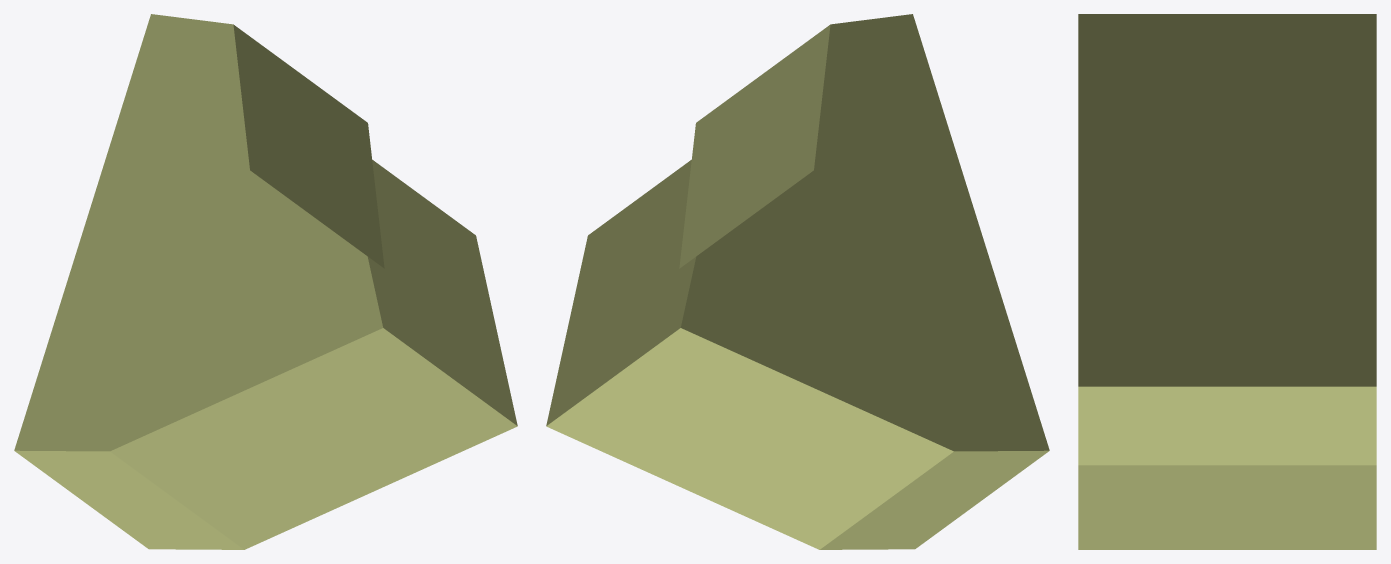
The picture shows the model from 3 angles, left to right: view 1: azimuth 30°, elevation 25°; view 2: azimuth 150°, elevation 25°; view 3: azimuth 270°, elevation 25°; orthographic projection. The views are drawn at different scales.
Visible parts, largest first — view 1: 0_1_0_1_3_3_3_0_2_2_0; view 2: 0_1_0_1_3_3_3_0_2_2_0; view 3: 0_1_0_1_3_3_3_0_2_2_0.
Part boxes in pixels (x1=…): 0_1_0_1_3_3_3_0_2_2_0: x1=14, y1=14, x2=517, y2=549; 0_1_0_1_3_3_3_0_2_2_0: x1=546, y1=14, x2=1049, y2=549; 0_1_0_1_3_3_3_0_2_2_0: x1=1078, y1=14, x2=1376, y2=549.
Bounding box in the file's own units: 9.5 × 10.51 × 6.
